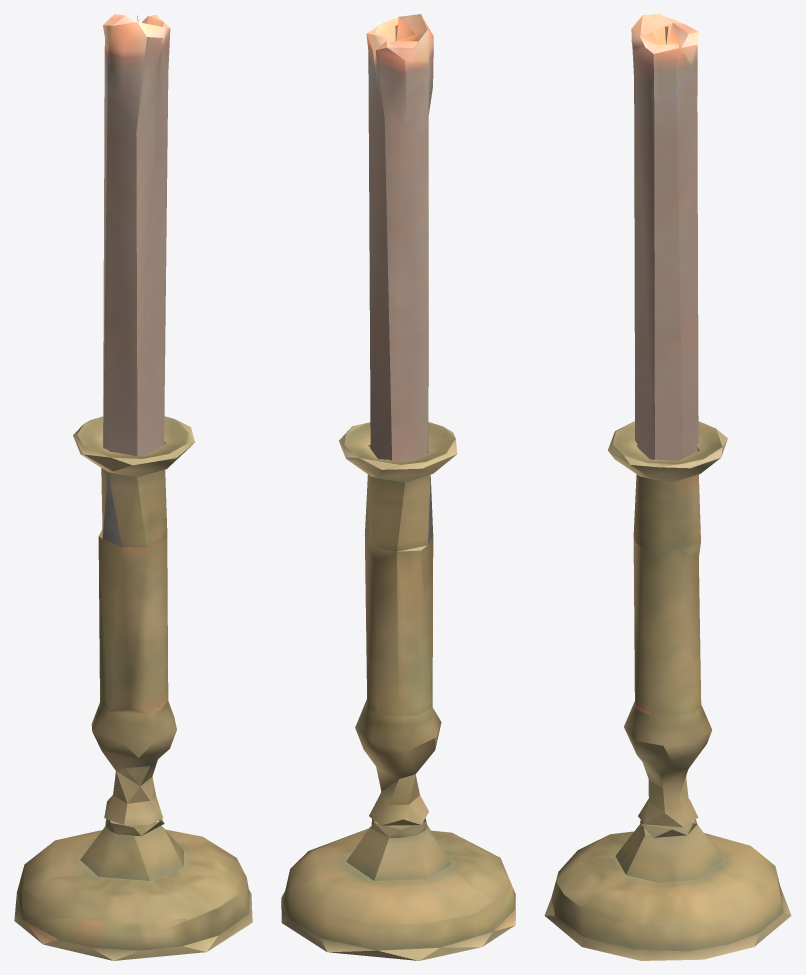
The model's file is candlestick-brass-a.lod1.glb.
The picture shows the model from 3 angles, left to right: view 1: azimuth 30°, elevation 25°; view 2: azimuth 150°, elevation 25°; view 3: azimuth 270°, elevation 25°; orthographic projection.
Visible parts, largest first — view 1: candlestick-brass-a; view 2: candlestick-brass-a; view 3: candlestick-brass-a.
Boxes of the visible parts, bbox=[...] form: candlestick-brass-a: bbox=[14, 14, 252, 960]; candlestick-brass-a: bbox=[281, 14, 515, 960]; candlestick-brass-a: bbox=[544, 14, 791, 960].
Size of the model in its own units: 0.079 by 0.3255 by 0.0818.
1 material, 1 textured.
